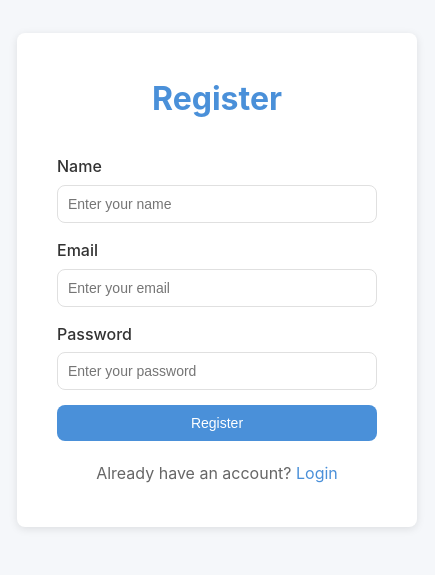
Scenario: Register › should show error on failed registration
Type "Test User" into the field labelled "Name" at (217, 204), box [57,185,377,223]
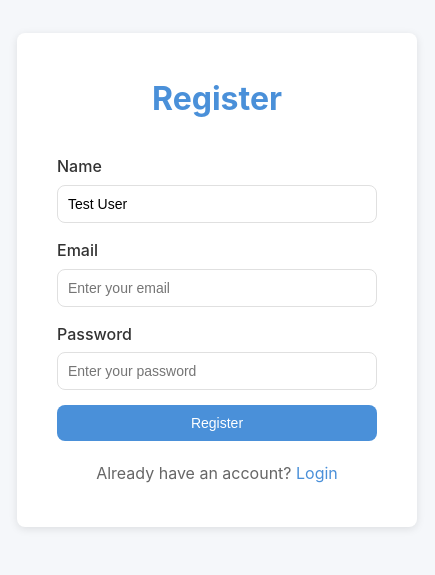
Type "existing@example.com" into the field labelled "Email" at (217, 288), box [57,269,377,307]
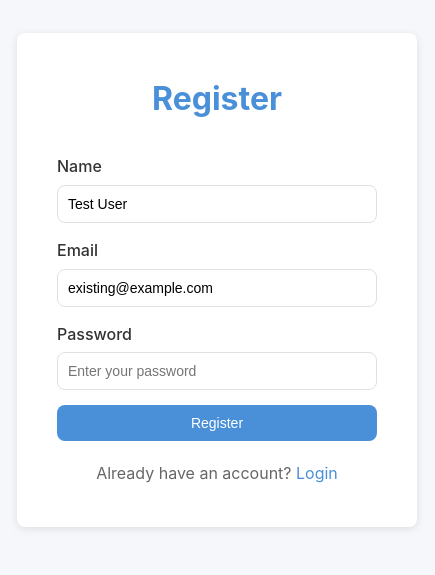
Type "password123" into the password field labelled "Password" at (217, 371), box [57,352,377,390]
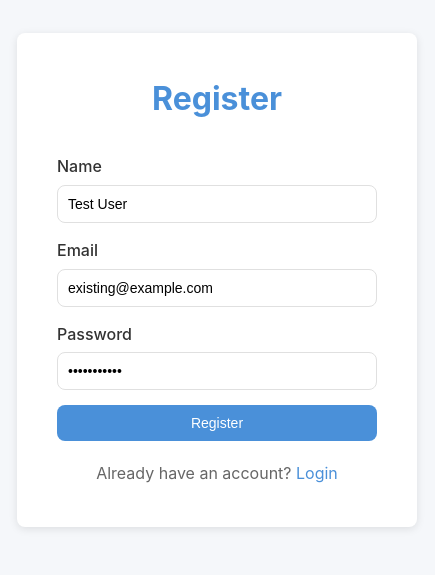
Click the button "Register" at (217, 423), box [57,405,377,441]
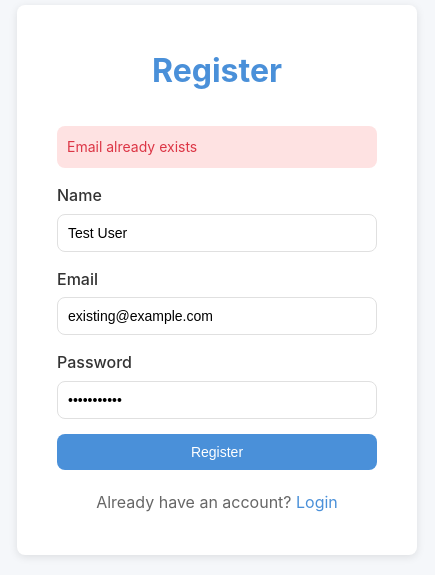
Expected: the text "Email already exists" is shown, [57,126,377,168]
